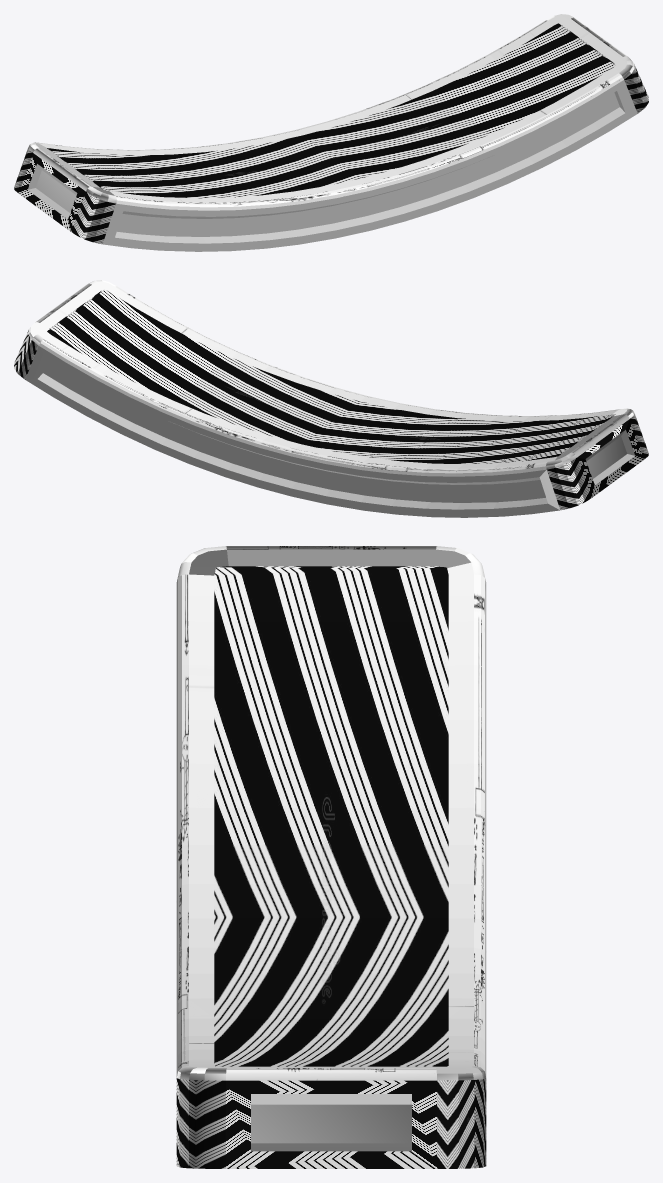
Rendered from Ramp_fix.FBX.
3 renders of one model, top to bottom at view 1: azimuth 30°, elevation 25°; view 2: azimuth 150°, elevation 25°; view 3: azimuth 270°, elevation 25°, orthographic. The views are drawn at different scales.
Visible parts, largest first — view 1: Box005; view 2: Box005; view 3: Box005.
Boxes of the visible parts, bbox=[...] form: Box005: bbox=[14, 14, 648, 251]; Box005: bbox=[14, 280, 648, 517]; Box005: bbox=[176, 546, 486, 1168].
Bounding box in the file's own units: 14.7 × 2.46 × 3.44.
